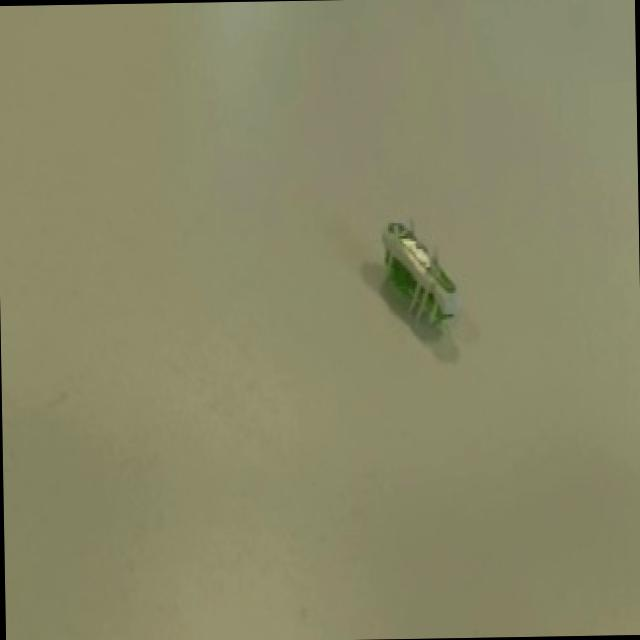4_NanoBug_Blanco: (342, 185, 483, 357)
